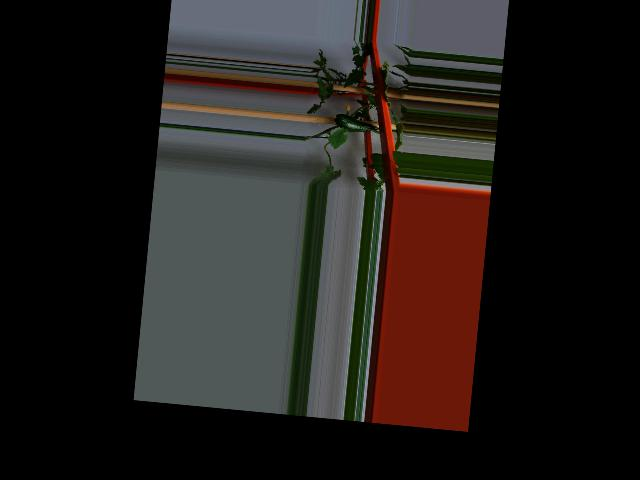cucumber: (330, 112, 373, 133)
